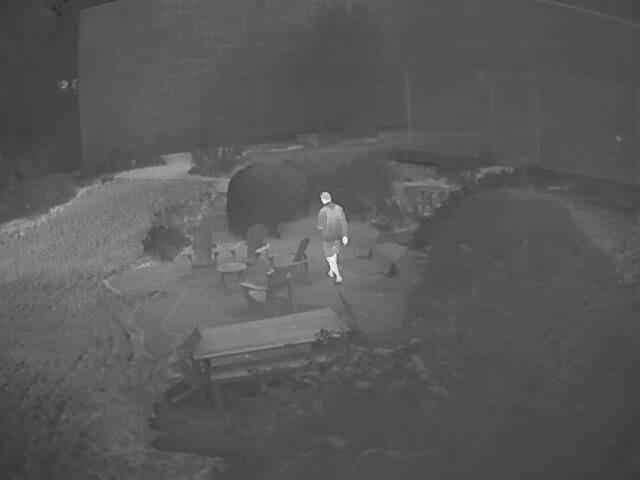person: (317, 189, 348, 283)
